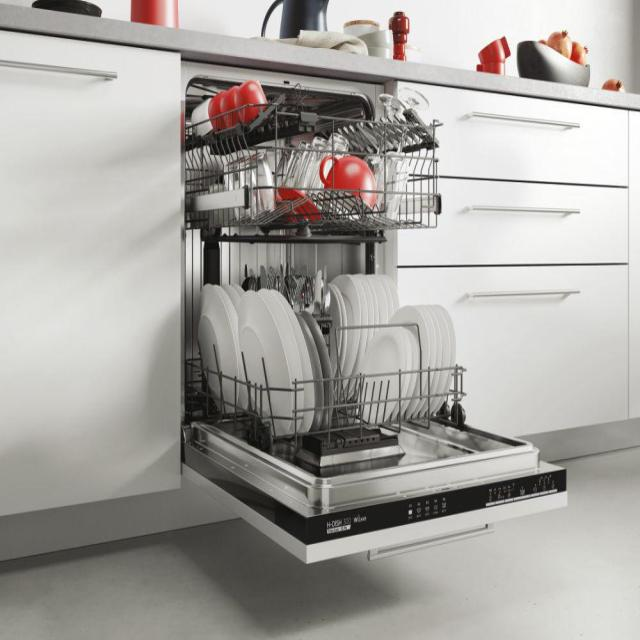dishwasher: (181, 49, 571, 567)
